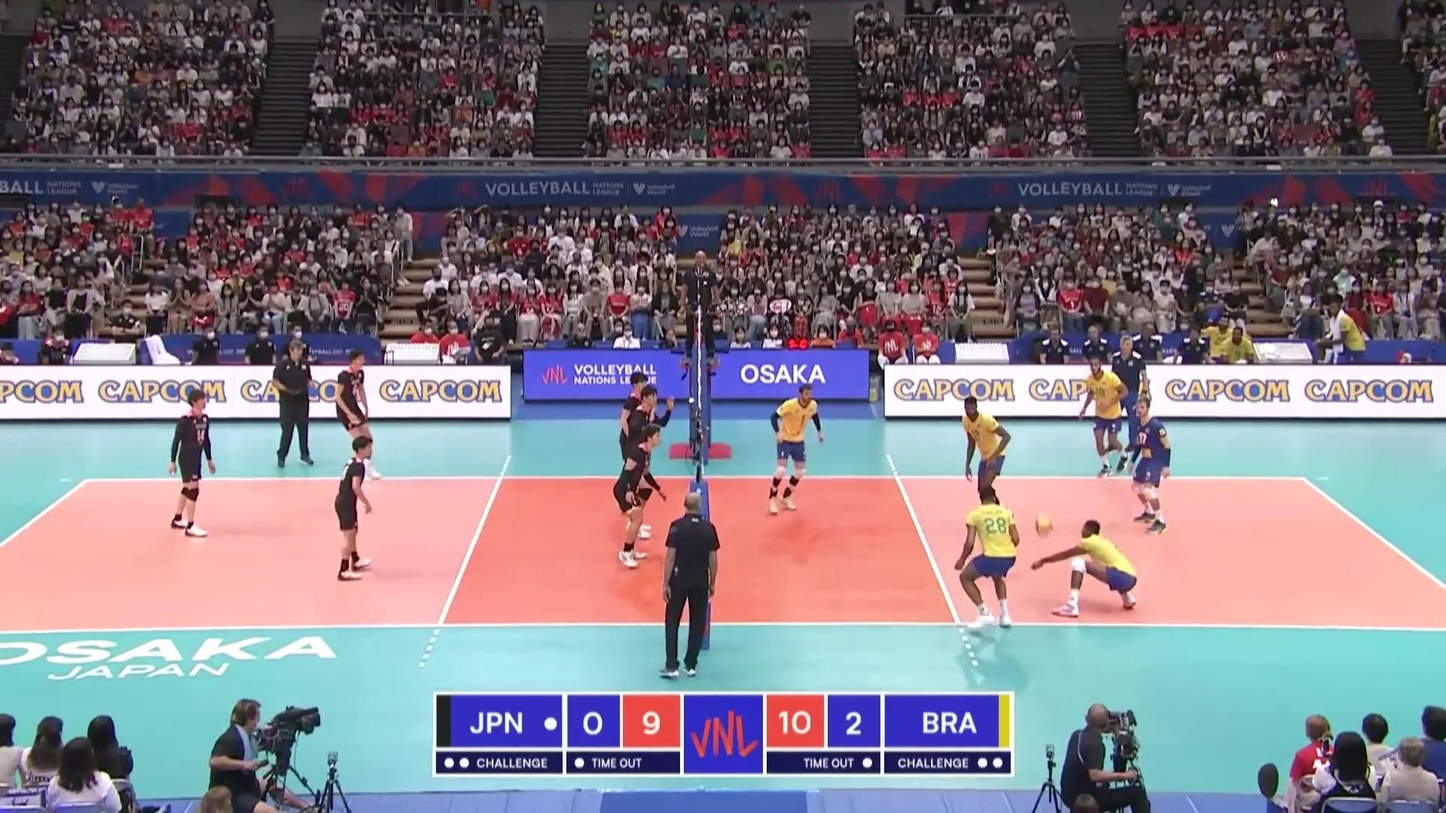player: (1041, 518, 1142, 619), (953, 488, 1021, 627), (768, 385, 824, 516), (168, 392, 216, 537), (628, 385, 672, 540), (334, 438, 382, 579), (616, 424, 662, 571), (1124, 398, 1174, 530), (962, 397, 1007, 536), (336, 349, 383, 481), (1080, 361, 1126, 479), (620, 373, 657, 510)
refree: (659, 495, 721, 680), (684, 250, 721, 372)
